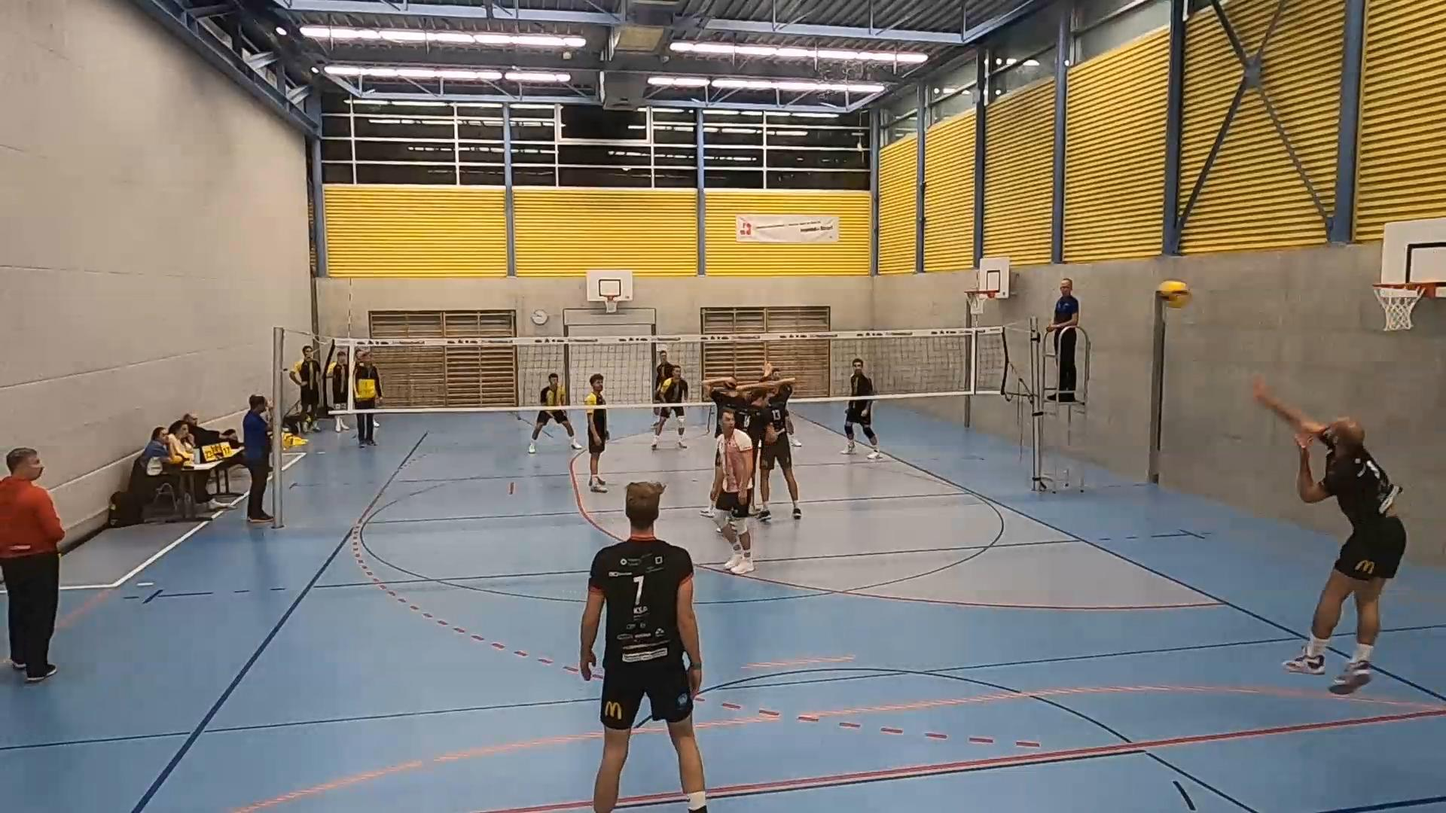battuta: (1227, 367, 1404, 680)
